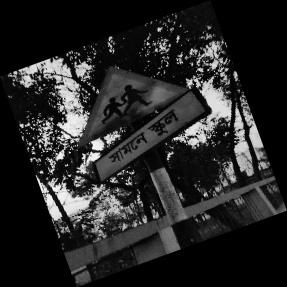School-in-front: (78, 66, 208, 187)
